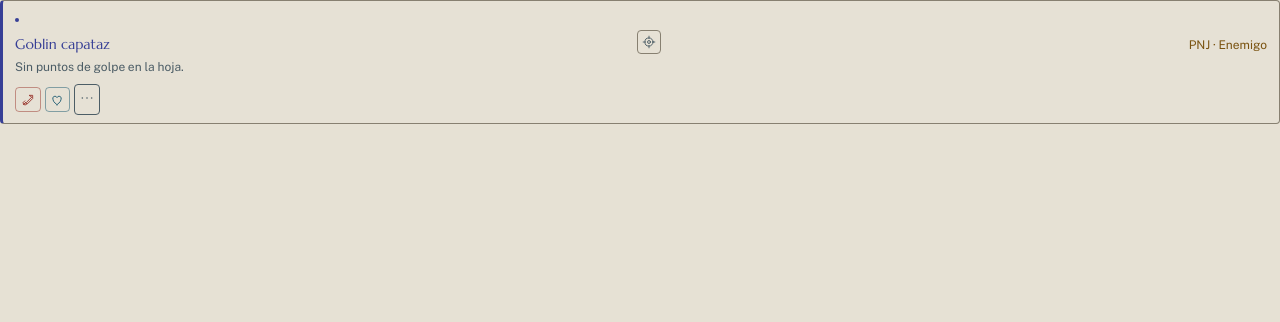
el menú del PNJ ofrece revelar/ocultar según su visibilidad › un PNJ visible ofrece «Ocultar»
Click the button named "Más acciones sobre Goblin capataz": {"x": 87, "y": 100} [74,84,100,115]
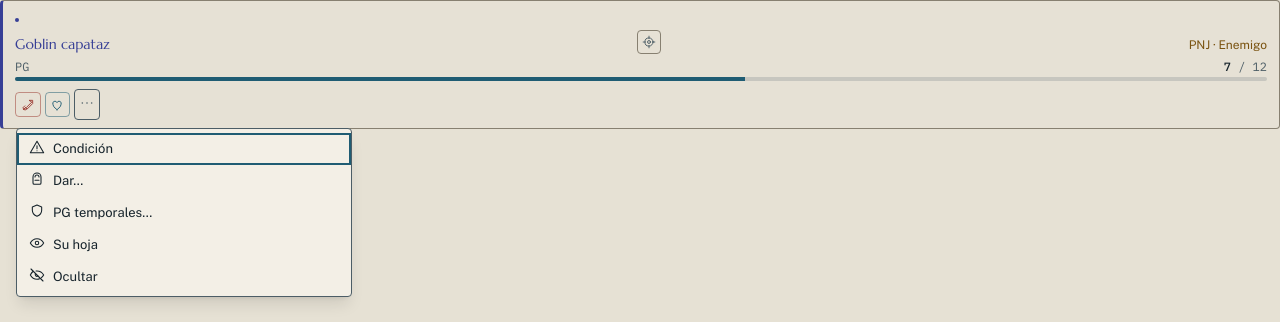
Now the menu item "Ocultar" is shown, box [17,260,351,292]
